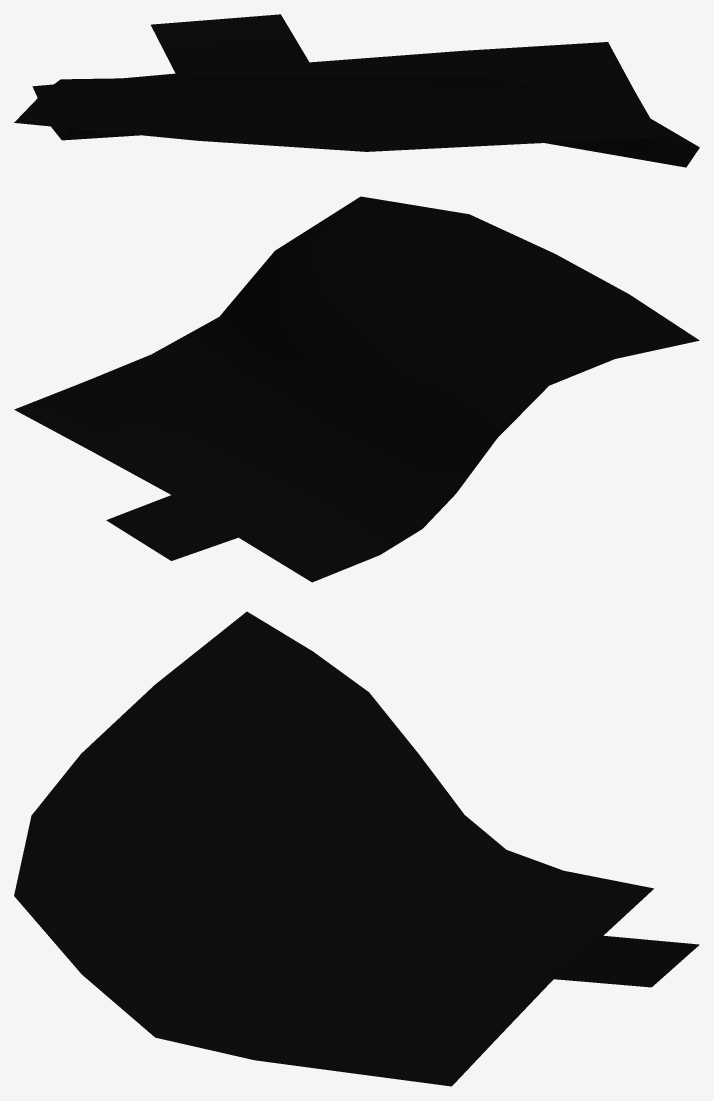
Rendered from HTOWN01_TREESHADOWS24.fbx.
3 views of the same model, one above another, from view 1: azimuth 30°, elevation 25°; view 2: azimuth 150°, elevation 25°; view 3: azimuth 270°, elevation 25° (orthographic). The views are drawn at different scales.
Visible parts, largest first — view 1: HTOWN01_TREESHADOWS24; view 2: HTOWN01_TREESHADOWS24; view 3: HTOWN01_TREESHADOWS24.
Part boxes in pixels (bbox=[...]): HTOWN01_TREESHADOWS24: bbox=[14, 14, 699, 167]; HTOWN01_TREESHADOWS24: bbox=[14, 196, 699, 582]; HTOWN01_TREESHADOWS24: bbox=[14, 611, 699, 1086].
Size of the model in its own units: 228332 by 57016 by 209248.
1 material, 1 textured.
